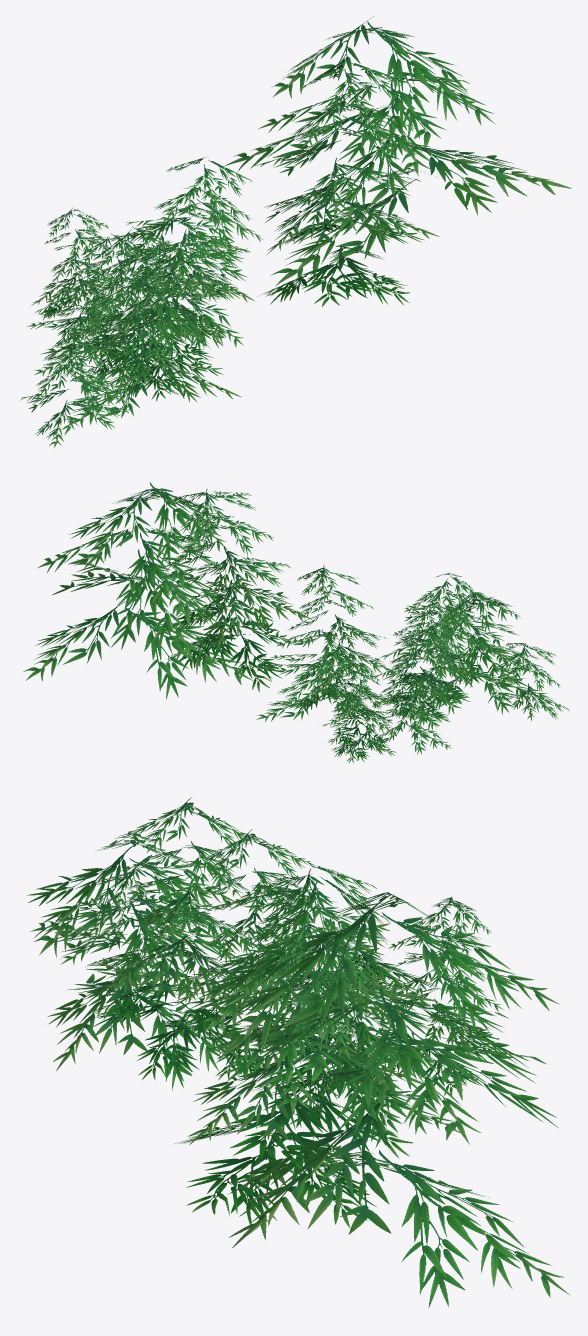
Rendered from Area_13_53.fbx.
3 renders of one model, top to bottom at view 1: azimuth 30°, elevation 25°; view 2: azimuth 150°, elevation 25°; view 3: azimuth 270°, elevation 25°, orthographic. The views are drawn at different scales.
Parts seen in each view (by area): view 1: Area_13_53; view 2: Area_13_53; view 3: Area_13_53.
Boxes of the visible parts, x1,y1,x2,y2 form: Area_13_53: (20, 16, 571, 448); Area_13_53: (23, 482, 569, 763); Area_13_53: (27, 797, 570, 1307).
Size of the model in its own units: 2951 by 1324 by 1677.
